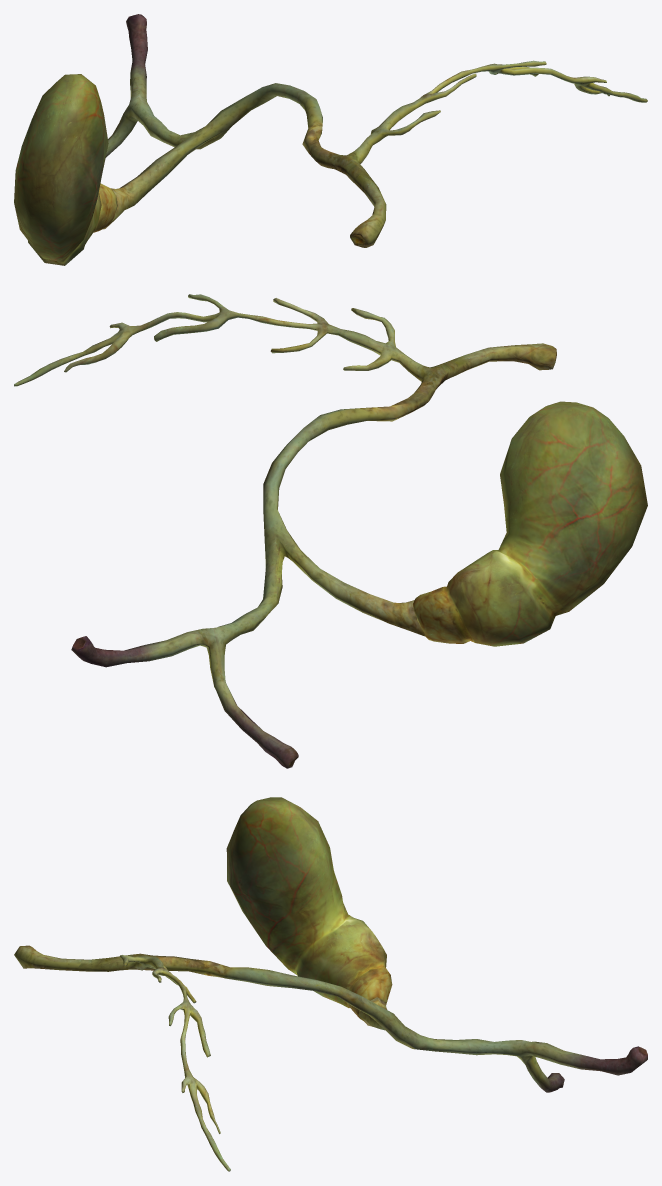
File: assetd.glb
The picture shows the model from 3 angles, top to bottom: view 1: azimuth 30°, elevation 25°; view 2: azimuth 150°, elevation 25°; view 3: azimuth 270°, elevation 25°; orthographic projection. The views are drawn at different scales.
Parts seen in each view (by area): view 1: Gallbladder_pivot.009; view 2: Gallbladder_pivot.009; view 3: Gallbladder_pivot.009.
Part boxes in pixels (<box>): Gallbladder_pivot.009: <box>14,14,647,265</box>; Gallbladder_pivot.009: <box>14,294,647,768</box>; Gallbladder_pivot.009: <box>14,797,647,1171</box>.
Bounding box in the file's own units: 0.2033 × 0.0838 × 0.1993.
Materials: 2 (2 with a texture image).
